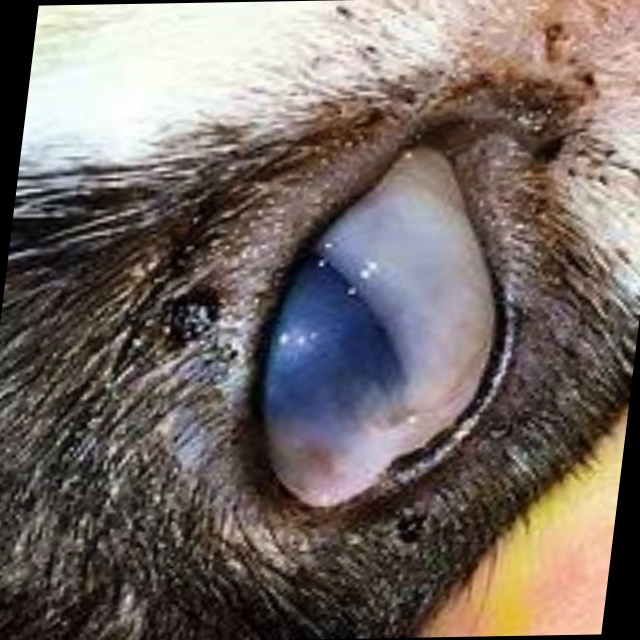eye_infection: (229, 133, 530, 521)
